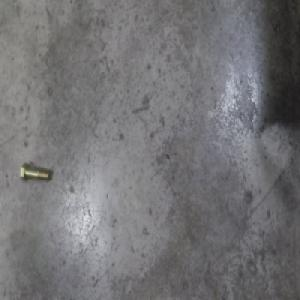Bolt: (21, 170, 51, 193)
